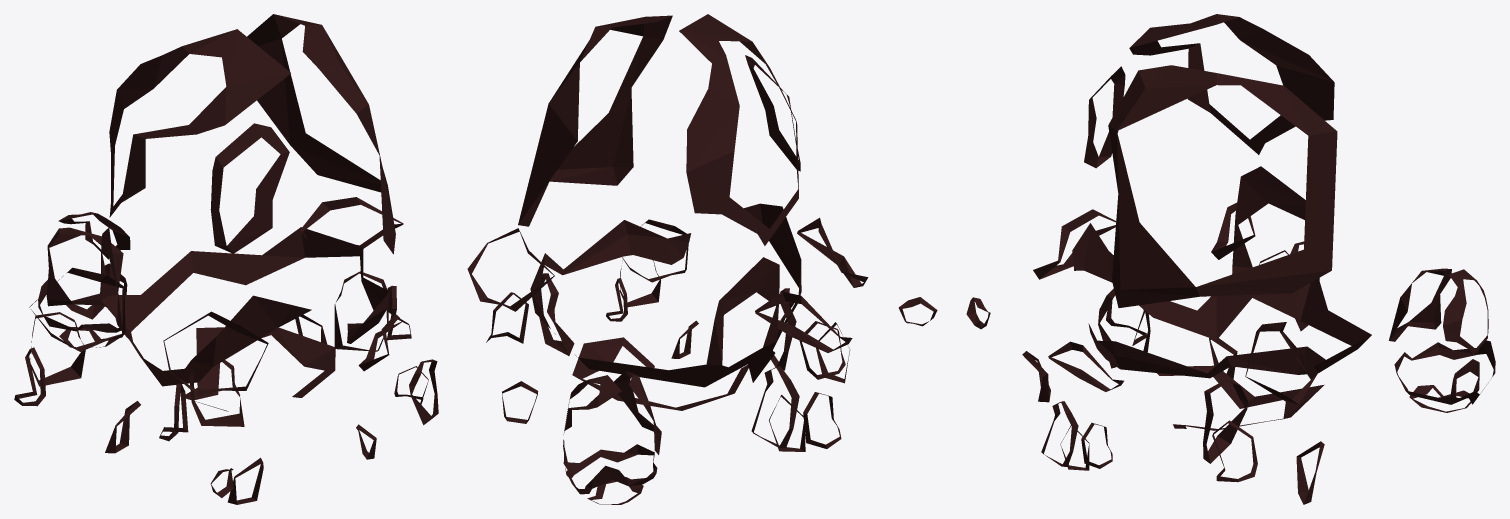
Rendered from Mine_02_Light_02.FBX.
3 views of the same model, side by side, from view 1: azimuth 30°, elevation 25°; view 2: azimuth 150°, elevation 25°; view 3: azimuth 270°, elevation 25° (orthographic). The views are drawn at different scales.
Visible parts, largest first — view 1: Mine_02_Light_02; view 2: Mine_02_Light_02; view 3: Mine_02_Light_02.
Boxes of the visible parts, box(x1,y1,x2,y2) form: Mine_02_Light_02: box(14, 14, 438, 504); Mine_02_Light_02: box(467, 14, 937, 504); Mine_02_Light_02: box(966, 14, 1495, 504).
Bounding box in the file's own units: 12.69 × 12.8 × 14.91.
